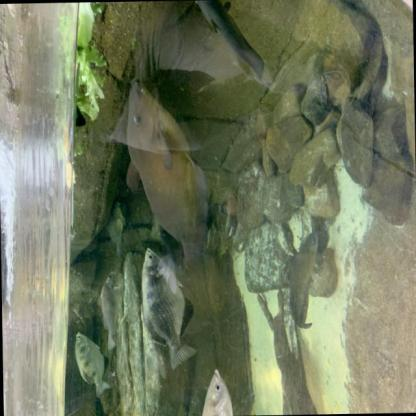fish: (126, 80, 210, 266), (139, 247, 197, 372), (191, 0, 266, 83), (73, 330, 112, 399), (96, 270, 123, 350), (199, 368, 236, 416)
